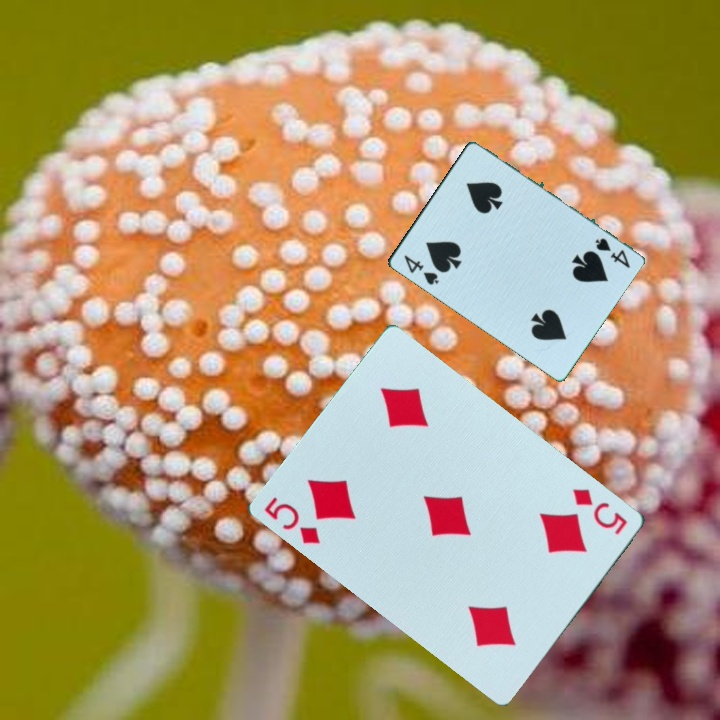4s: (399, 251, 442, 288), (591, 234, 632, 271)
5d: (260, 493, 326, 547), (570, 484, 632, 538)
